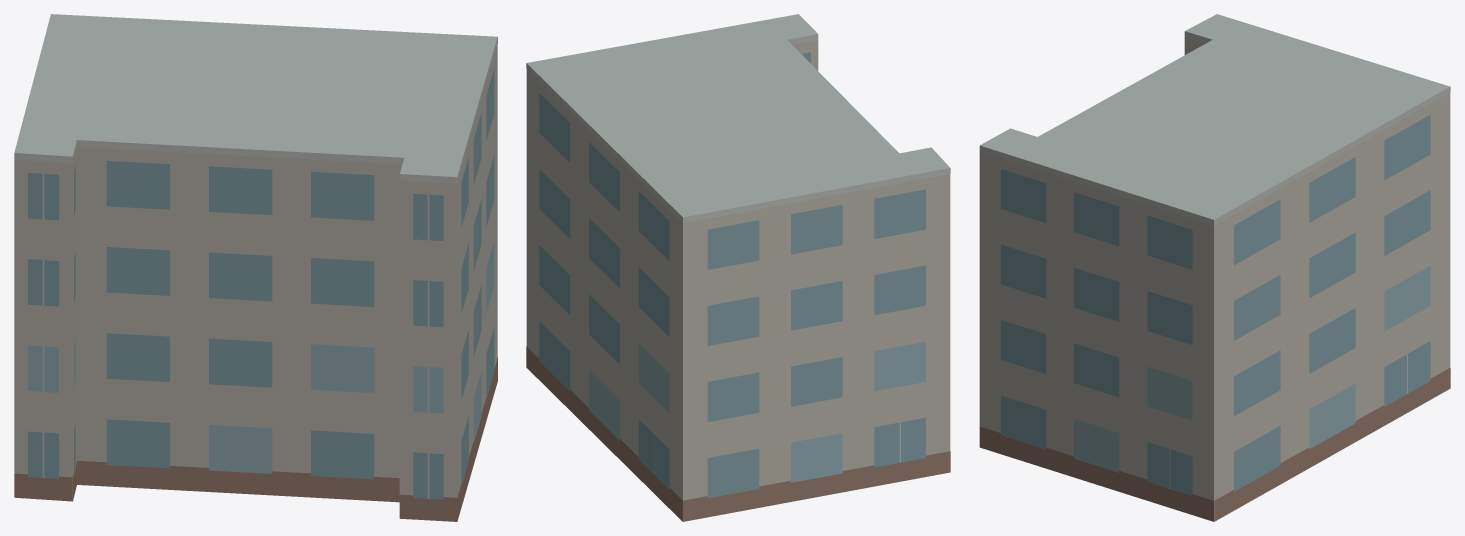
The model's file is survey-upis-32943048.glb.
3 views of the same model, side by side, from view 1: azimuth 30°, elevation 25°; view 2: azimuth 150°, elevation 25°; view 3: azimuth 270°, elevation 25° (orthographic). The views are drawn at different scales.
Visible parts, largest first — view 1: survey-upis-32943048.tmp; view 2: survey-upis-32943048.tmp; view 3: survey-upis-32943048.tmp.
Part boxes in pixels (x1=…): survey-upis-32943048.tmp: x1=14, y1=14, x2=497, y2=521; survey-upis-32943048.tmp: x1=526, y1=14, x2=950, y2=521; survey-upis-32943048.tmp: x1=979, y1=14, x2=1450, y2=521.
Size of the model in its own units: 18.29 by 12.5 by 17.67.
